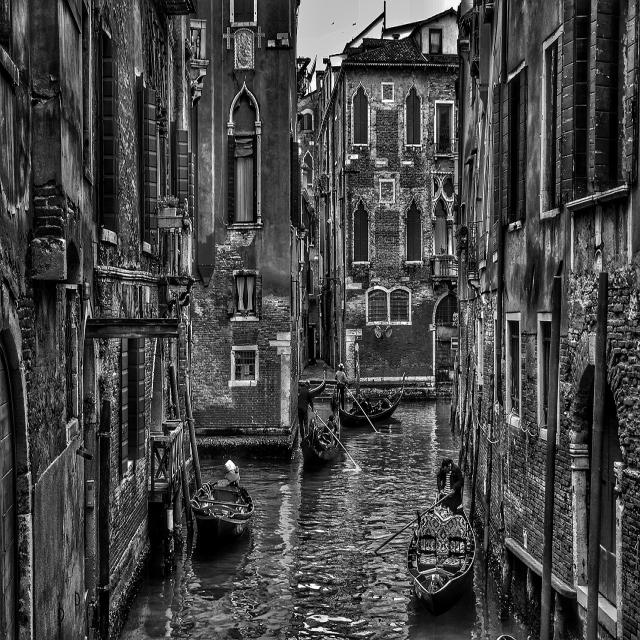boat: (398, 461, 486, 640), (185, 423, 262, 568), (326, 357, 418, 444), (295, 386, 351, 490)
